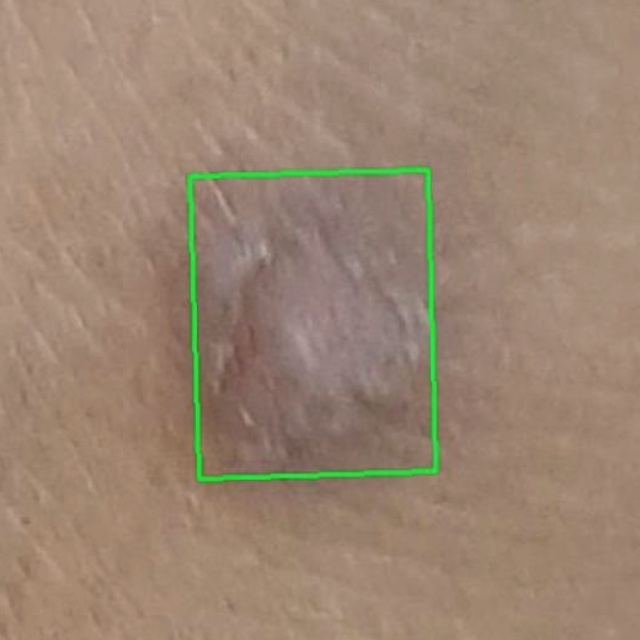Contact Dermatitis: (191, 170, 437, 479)
